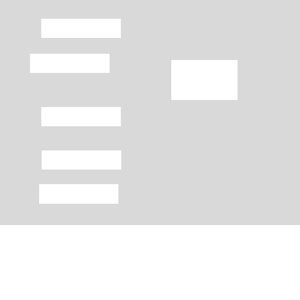square: (169, 58, 241, 102), (39, 146, 124, 172), (36, 180, 121, 206), (28, 51, 112, 76), (39, 104, 123, 129), (39, 16, 123, 40)
